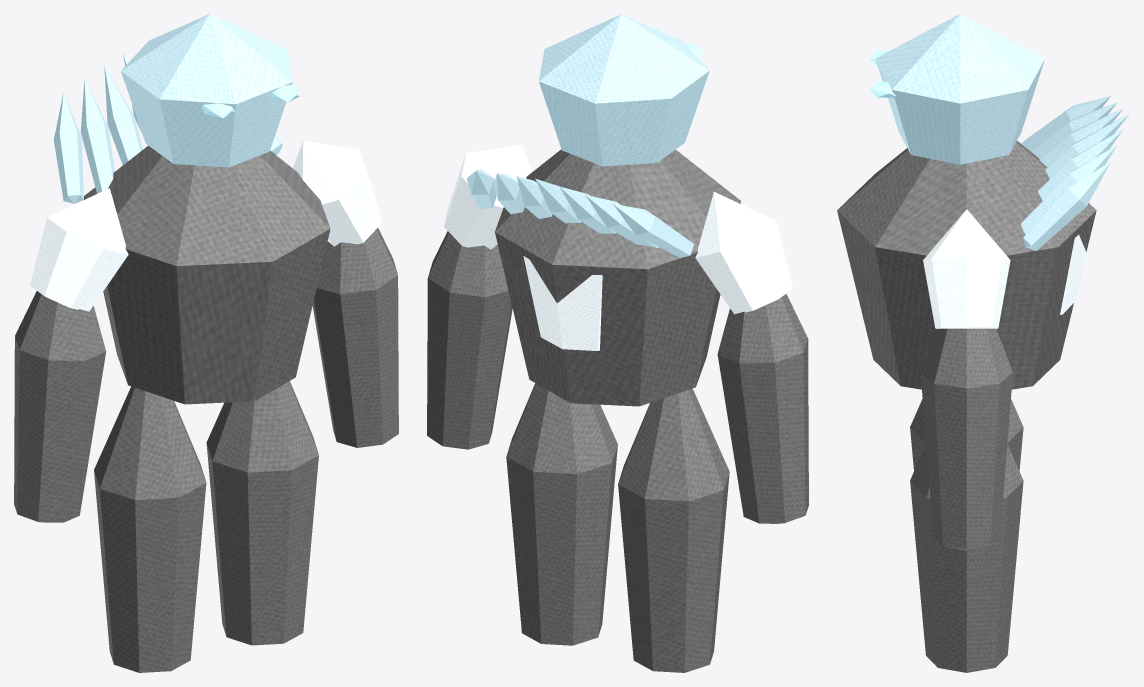
Rendered from deep-fracture-crystal-golem-visual-frost.glb.
3 renders of one model, left to right at view 1: azimuth 30°, elevation 25°; view 2: azimuth 150°, elevation 25°; view 3: azimuth 270°, elevation 25°, orthographic. The views are drawn at different scales.
Parts seen in each view (by area): view 1: crystal-torso, leg-left, leg-right, crystal-crown, arm-left, arm-right, armor-core-left, armor-core-right, dorsal-spire-0, dorsal-spire-1, dorsal-spire-2; view 2: crystal-torso, leg-left, leg-right, crystal-crown, arm-left, arm-right, armor-core-left, armor-core-right, regeneration-core, dorsal-spire-0, dorsal-spire-1, dorsal-spire-2 (+4 smaller); view 3: crystal-torso, crystal-crown, arm-right, leg-right, armor-core-right, dorsal-spire-6, leg-left, dorsal-spire-5, dorsal-spire-0, dorsal-spire-4, dorsal-spire-3, dorsal-spire-1 (+2 smaller).
Boxes of the visible parts, x1,y1,x2,y2 form: crystal-torso: [83, 145, 330, 404]; leg-left: [94, 386, 206, 672]; leg-right: [206, 381, 318, 645]; crystal-crown: [121, 14, 292, 167]; arm-left: [14, 291, 106, 522]; arm-right: [312, 228, 398, 447]; armor-core-left: [30, 188, 128, 311]; armor-core-right: [293, 141, 381, 246]; dorsal-spire-0: [53, 92, 83, 203]; dorsal-spire-1: [80, 78, 114, 193]; dorsal-spire-2: [104, 65, 142, 165]; crystal-torso: [495, 149, 740, 406]; leg-left: [618, 388, 729, 672]; leg-right: [506, 383, 617, 645]; crystal-crown: [539, 14, 709, 166]; arm-left: [717, 293, 808, 523]; arm-right: [427, 231, 512, 449]; armor-core-left: [695, 191, 792, 314]; armor-core-right: [444, 144, 531, 249]; regeneration-core: [523, 256, 602, 350]; dorsal-spire-0: [613, 204, 694, 257]; dorsal-spire-1: [585, 195, 658, 248]; dorsal-spire-2: [559, 186, 615, 233]; crystal-torso: [837, 141, 1096, 389]; crystal-crown: [875, 14, 1044, 164]; arm-right: [920, 328, 1012, 550]; leg-right: [910, 444, 1023, 672]; armor-core-right: [923, 209, 1010, 328]; dorsal-spire-6: [1023, 162, 1110, 250]; leg-left: [910, 399, 1023, 470]; dorsal-spire-5: [1021, 144, 1117, 234]; dorsal-spire-0: [1022, 96, 1110, 151]; dorsal-spire-4: [1037, 128, 1123, 200]; dorsal-spire-3: [1045, 114, 1129, 178]; dorsal-spire-1: [1031, 102, 1117, 158].
Size of the model in its own units: 3.22 by 5.25 by 2.22.
Materials: 5 (5 with a texture image).
